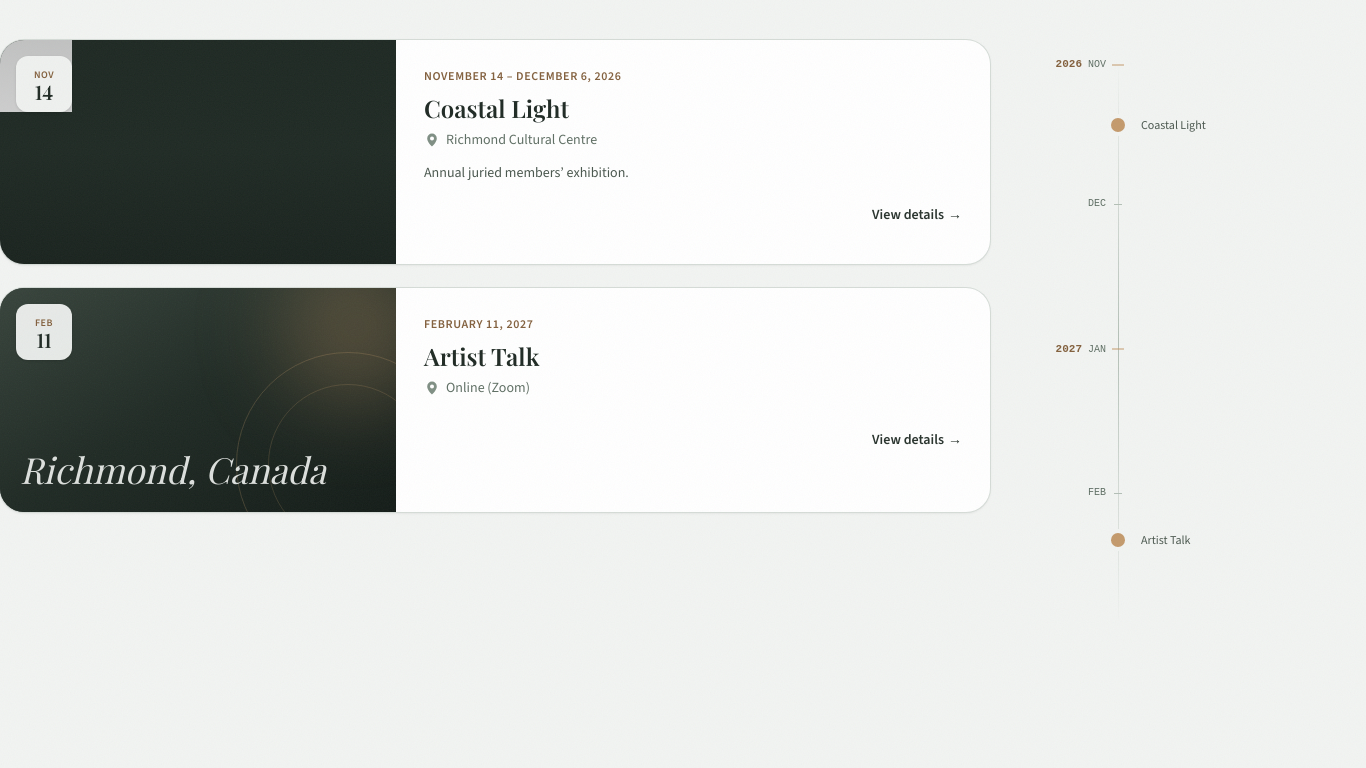
Scenario: EventsBrowser on touch screens › still opens on the first click with a mouse
Click the button "Artist Talk" at (1154, 540), box top-left (1118, 524), bottom-right (1191, 556)
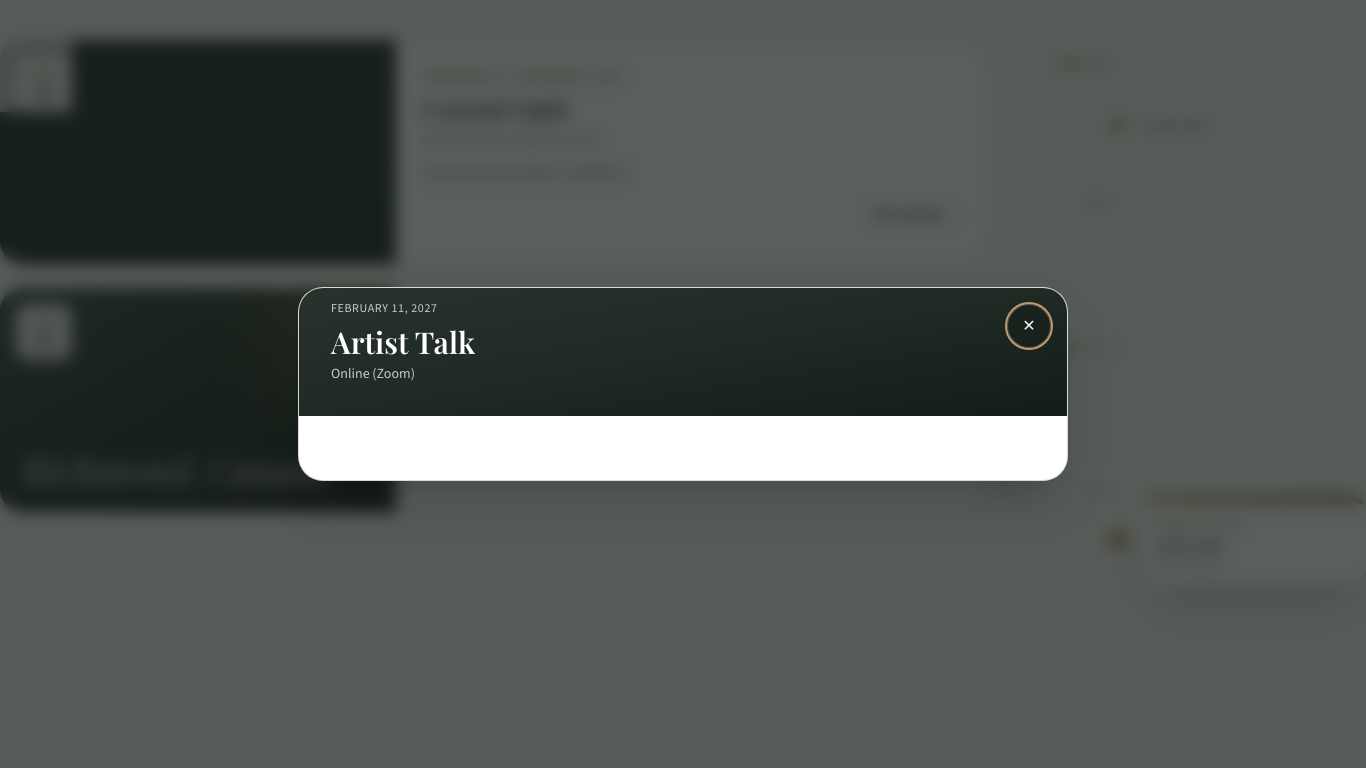
Now the dialog "Artist Talk" is shown, box top-left (299, 288), bottom-right (1067, 480)
